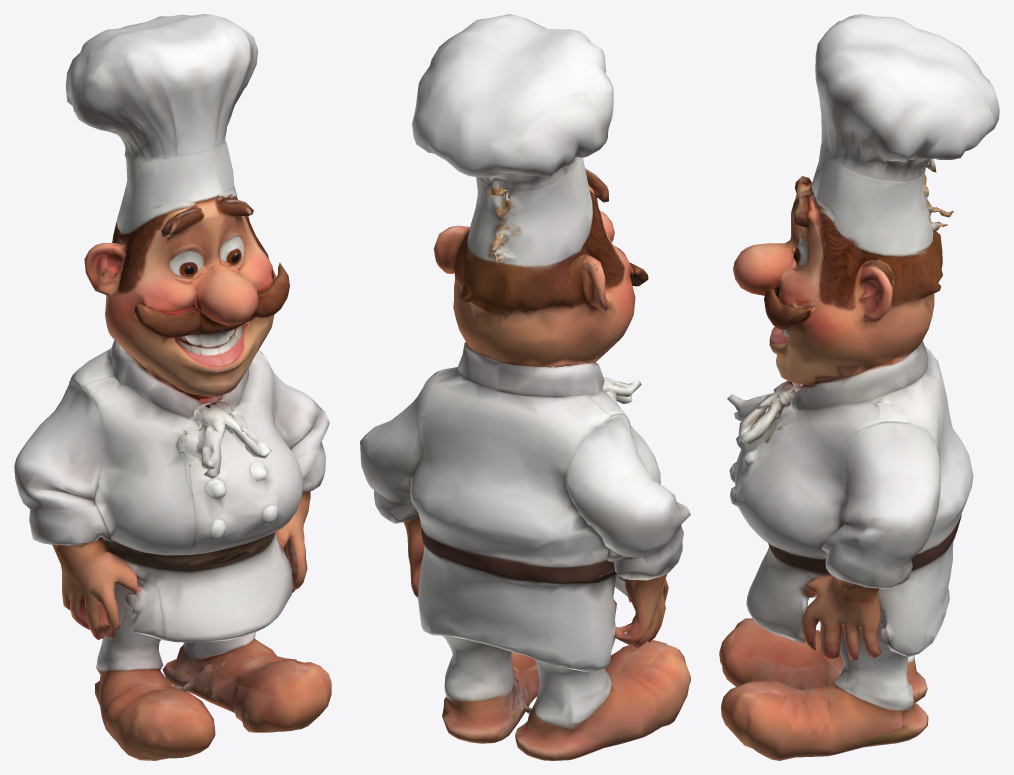
The model's file is chef.glb.
3 renders of one model, left to right at view 1: azimuth 30°, elevation 25°; view 2: azimuth 150°, elevation 25°; view 3: azimuth 270°, elevation 25°, orthographic. The views are drawn at different scales.
Bounding box in the file's own units: 0.9284 × 2 × 0.7418.
Materials: 1 (1 with a texture image).
